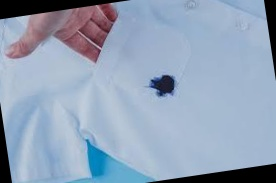ink: (149, 74, 177, 99)
